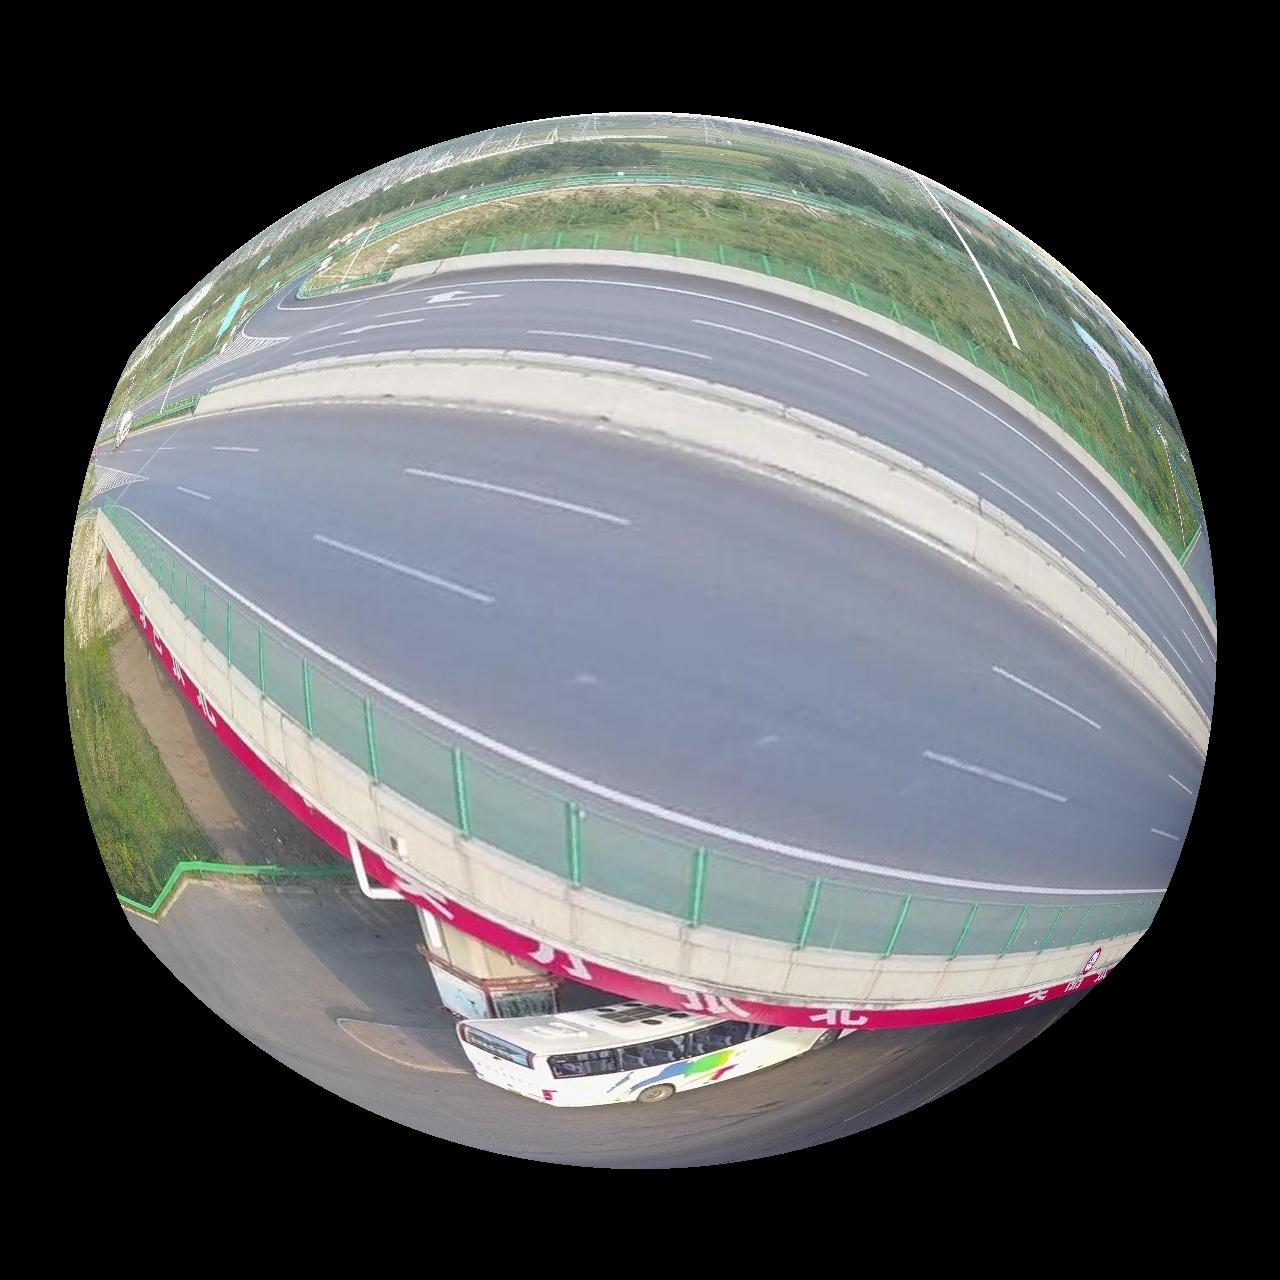cars: (457, 1005, 847, 1109)
trees: (393, 131, 1203, 553), (67, 638, 215, 905)
